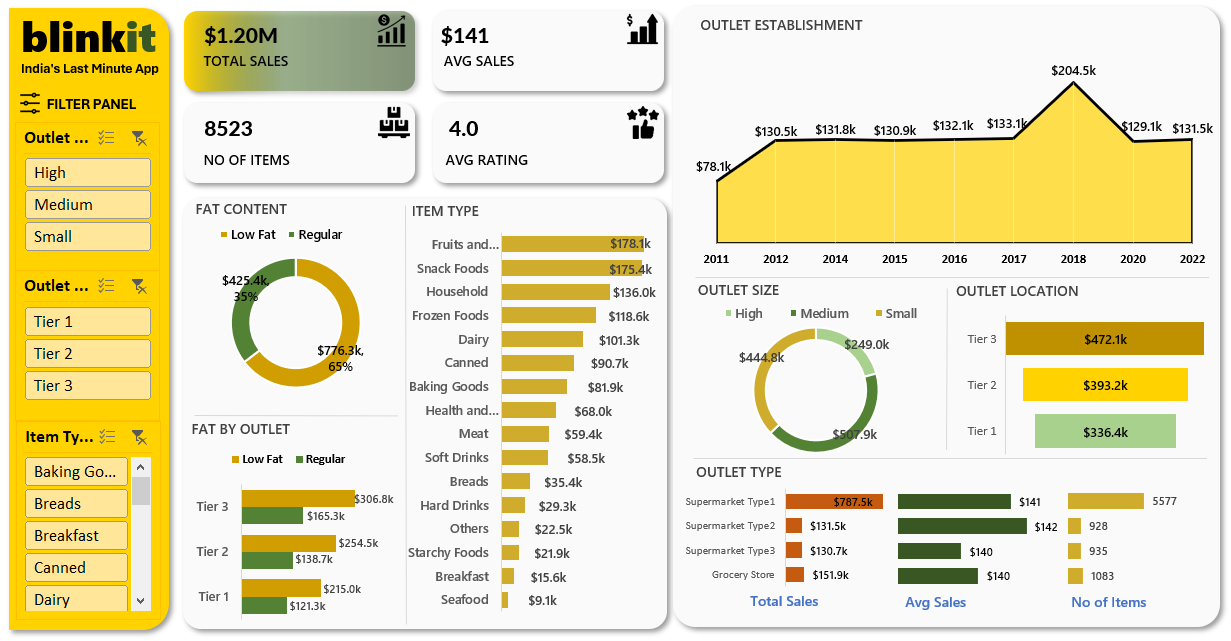

What the dashboard file says about the page in this screenshot:
{"tool":"powerbi","page":{"name":"Page 1","canvas":[1400,800],"ordinal":0},"visuals":[{"type":"shape","box":[15.6,3.5,211.9,784],"z":0},{"type":"textbox","box":[39.9,13.9,165,74.7],"z":1000},{"type":"textbox","box":[39.9,72.9,182.3,29.5],"z":2000},{"type":"cardVisual","fields":{"Data":["BlinkIT Grocery Data.Total Sales","BlinkIT Grocery Data.Average Sales","BlinkIT Grocery Data.Number Of Items","BlinkIT Grocery Data.Average Rating"]},"box":[222.3,0,569.6,269.2],"z":3000},{"type":"shape","box":[229.4,261.9,553.8,536.9],"z":4000},{"type":"pieChart","title":"FAT CONTENT","fields":{"Y":["BlinkIT Grocery Data.Total Sales"],"Category":["BlinkIT Grocery Data.Item Fat Content"]},"box":[241.4,317.8,218.8,229.2],"z":5000},{"type":"slicer","fields":{"Values":["Metrics.Metrics"]},"box":[241.4,279.6,465.4,39.9],"z":6000},{"type":"cardVisual","fields":{"Data":["BlinkIT Grocery Data.Total Sales"]},"box":[293.5,402.9,112.9,102.5],"z":7000},{"type":"clusteredBarChart","title":"FAT BY OUTLET","fields":{"Y":["BlinkIT Grocery Data.Total Sales"],"Category":["BlinkIT Grocery Data.Outlet Location Type"],"Series":["BlinkIT Grocery Data.Item Fat Content"]},"box":[239.7,559.2,218.8,229.2],"z":8000},{"type":"shape","box":[253.6,505.4,194.5,90.3],"z":9000},{"type":"shape","box":[404.6,336.9,118.1,435.9],"z":10000},{"type":"barChart","title":"ITEM TYPE","fields":{"Y":["BlinkIT Grocery Data.Total Sales"],"Category":["BlinkIT Grocery Data.Item Type"]},"box":[463.7,316.1,310.9,467.2],"z":11000},{"type":"shape","title":"OUTLET ","box":[783.2,0,607.8,793.7],"z":12000},{"type":"lineChart","title":"OUTLET ESTABLISHMENT","fields":{"Category":["BlinkIT Grocery Data.Outlet Establishment Year"],"Y":["BlinkIT Grocery Data.Total Sales"]},"box":[797.1,13.9,580,234.4],"z":13000},{"type":"shape","box":[797.1,224,580,62.5],"z":14000},{"type":"pieChart","title":"OUTLET SIZE","fields":{"Y":["BlinkIT Grocery Data.Total Sales"],"Category":["BlinkIT Grocery Data.Outlet Size"]},"box":[797.1,279.6,286.5,225.8],"z":15000},{"type":"shape","box":[974.3,286.5,220.6,198],"z":16000},{"type":"funnel","title":"OUTLET LOCATION","fields":{"Category":["BlinkIT Grocery Data.Outlet Location Type"],"Y":["Sum(BlinkIT Grocery Data.Sales)"]},"box":[1087.1,276.1,286.5,225.8],"z":17000},{"type":"shape","box":[797.1,429,580,163.2],"z":18000},{"type":"pivotTable","title":"OUTLET TYPE","fields":{"Values":["BlinkIT Grocery Data.Total Sales","BlinkIT Grocery Data.No Of Items","BlinkIT Grocery Data.Average Sales","BlinkIT Grocery Data.Average Rating","Avg(BlinkIT Grocery Data.Item Visibility)"],"Rows":["BlinkIT Grocery Data.Outlet Type"]},"box":[791.9,526.2,599.1,270.9],"z":19000},{"type":"slicer","fields":{"Values":["BlinkIT Grocery Data.Outlet Size"]},"box":[31.3,378.6,180.6,74.7],"z":20000},{"type":"slicer","fields":{"Values":["BlinkIT Grocery Data.Outlet Location Type"]},"box":[33,279.6,180.6,74.7],"z":21000},{"type":"slicer","fields":{"Values":["BlinkIT Grocery Data.Item Type"]},"box":[31.3,475.8,180.6,74.7],"z":22000},{"type":"textbox","box":[15.6,231,180.6,34.7],"z":23000},{"type":"image","box":[31.3,231,43.4,34.7],"z":24000},{"type":"image","box":[1286.9,0,90.3,88.6],"z":25000},{"type":"image","box":[677.3,276.1,114.6,59],"z":26000}]}

Visuals, with their boxes on the page's 1400x800 design canvas (x1, y1, x2, y2). These are canvas units, not pixel positions in the 1231x641 screenshot, which may show the page scaled, cropped or inside an application window:
shape: 16, 4, 228, 788
textbox: 40, 14, 205, 89
textbox: 40, 73, 222, 102
cardVisual - BlinkIT Grocery Data.Total Sales x BlinkIT Grocery Data.Average Sales: 222, 0, 792, 269
shape: 229, 262, 783, 799
"FAT CONTENT" pieChart: 241, 318, 460, 547
slicer - Metrics.Metrics: 241, 280, 707, 320
cardVisual - BlinkIT Grocery Data.Total Sales: 294, 403, 406, 505
"FAT BY OUTLET" clusteredBarChart: 240, 559, 458, 788
shape: 254, 505, 448, 596
shape: 405, 337, 523, 773
"ITEM TYPE" barChart: 464, 316, 775, 783
"OUTLET " shape: 783, 0, 1391, 794
"OUTLET ESTABLISHMENT" lineChart: 797, 14, 1377, 248
shape: 797, 224, 1377, 286
"OUTLET SIZE" pieChart: 797, 280, 1084, 505
shape: 974, 286, 1195, 484
"OUTLET LOCATION" funnel: 1087, 276, 1374, 502
shape: 797, 429, 1377, 592
"OUTLET TYPE" pivotTable: 792, 526, 1391, 797
slicer - BlinkIT Grocery Data.Outlet Size: 31, 379, 212, 453
slicer - BlinkIT Grocery Data.Outlet Location Type: 33, 280, 214, 354
slicer - BlinkIT Grocery Data.Item Type: 31, 476, 212, 550
textbox: 16, 231, 196, 266
image: 31, 231, 75, 266
image: 1287, 0, 1377, 89
image: 677, 276, 792, 335
